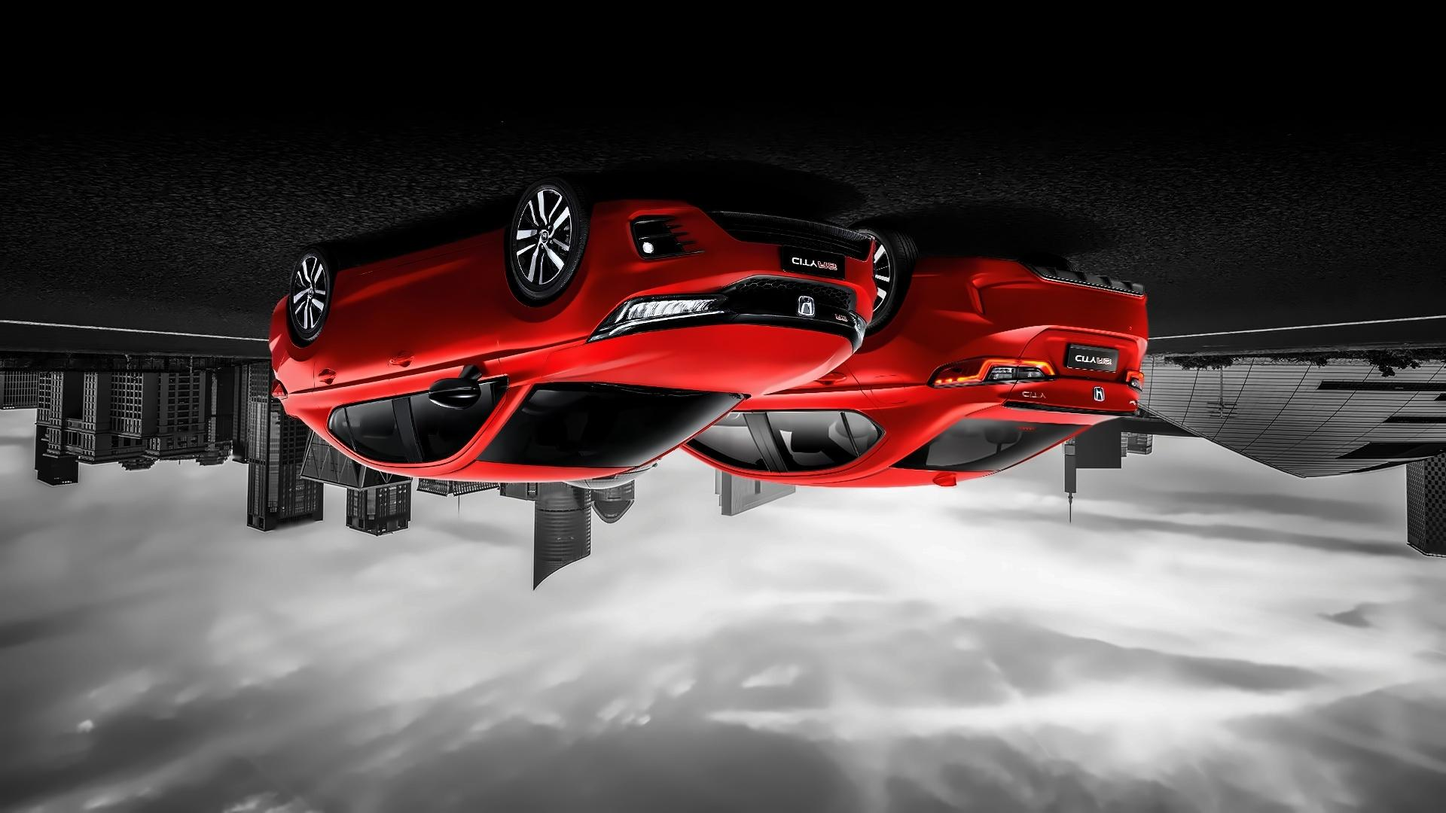Car boot: (981, 325, 1148, 428)
Car hood: (545, 321, 860, 396)
Fender - -F-L-: (489, 217, 613, 388)
Fender - -R-L-: (277, 260, 343, 424)
Fender - -R-R-: (839, 304, 1000, 434)
Front bumper: (593, 199, 883, 314)
Headlight - -L-: (582, 287, 729, 348)
Headlight - -R-: (839, 301, 869, 346)
Passenger-s door - -F-L-: (395, 240, 513, 472)
Passenger-s door - -R-L-: (310, 267, 412, 474)
Passenger-s door - -R-R-: (758, 359, 895, 484)
Rear bumper: (905, 247, 1165, 359), (256, 295, 292, 377)
Rear light - -L-: (1116, 363, 1149, 401), (264, 370, 290, 405)
Rear light - -R-: (921, 340, 1062, 398)
Side bumper - -L-: (327, 224, 511, 285)
Side mirror - -L-: (423, 351, 490, 412)
